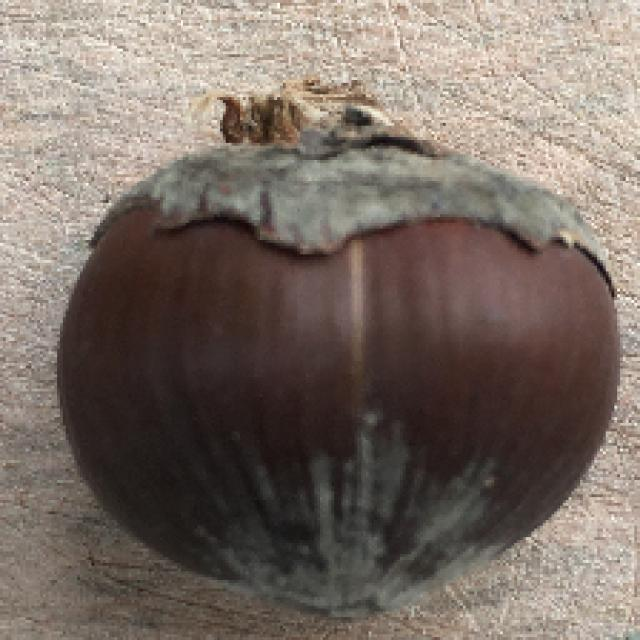damagedHazelnut: (48, 71, 640, 625)
